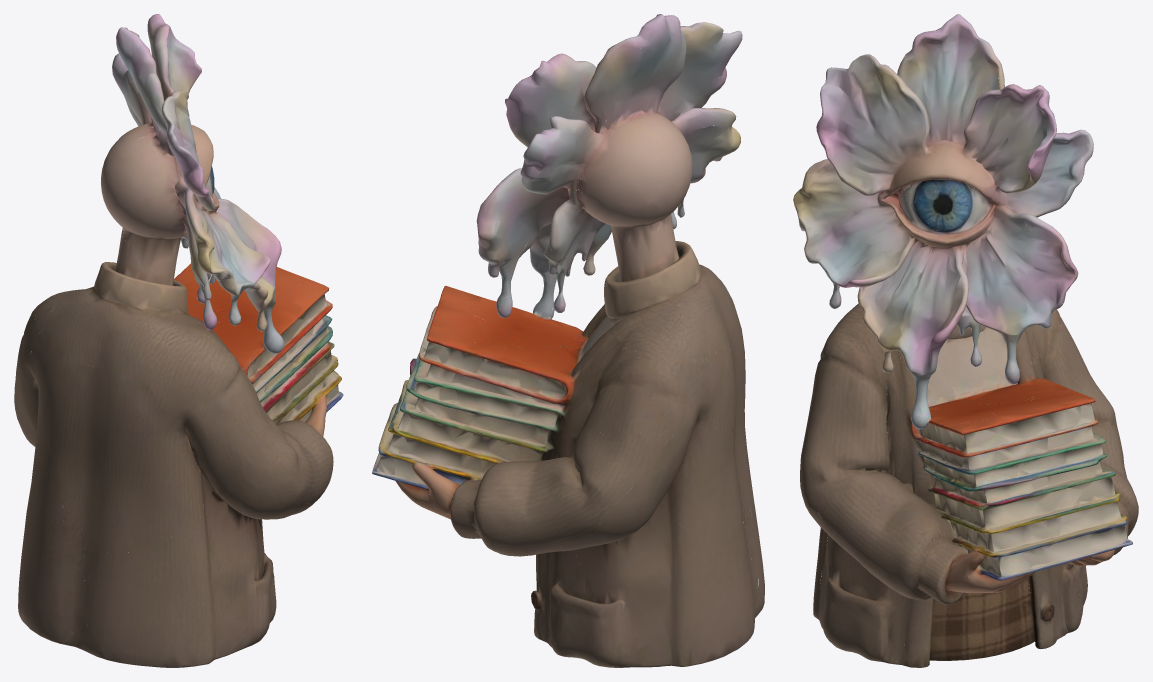
Rendered from bookseller.glb.
The picture shows the model from 3 angles, left to right: view 1: azimuth 30°, elevation 25°; view 2: azimuth 150°, elevation 25°; view 3: azimuth 270°, elevation 25°; orthographic projection. The views are drawn at different scales.
Parts seen in each view (by area): view 1: tripo_node_e0f8eee0-62af-4f0a-9096-a0f2e720e815; view 2: tripo_node_e0f8eee0-62af-4f0a-9096-a0f2e720e815; view 3: tripo_node_e0f8eee0-62af-4f0a-9096-a0f2e720e815.
Boxes of the visible parts, left/top/right/bottom form: tripo_node_e0f8eee0-62af-4f0a-9096-a0f2e720e815: left=14, top=14, right=343, bottom=667; tripo_node_e0f8eee0-62af-4f0a-9096-a0f2e720e815: left=372, top=14, right=764, bottom=667; tripo_node_e0f8eee0-62af-4f0a-9096-a0f2e720e815: left=793, top=14, right=1138, bottom=667.
Size of the model in its own units: 0.5798 by 0.9999 by 0.526.
Materials: 1 (1 with a texture image).
